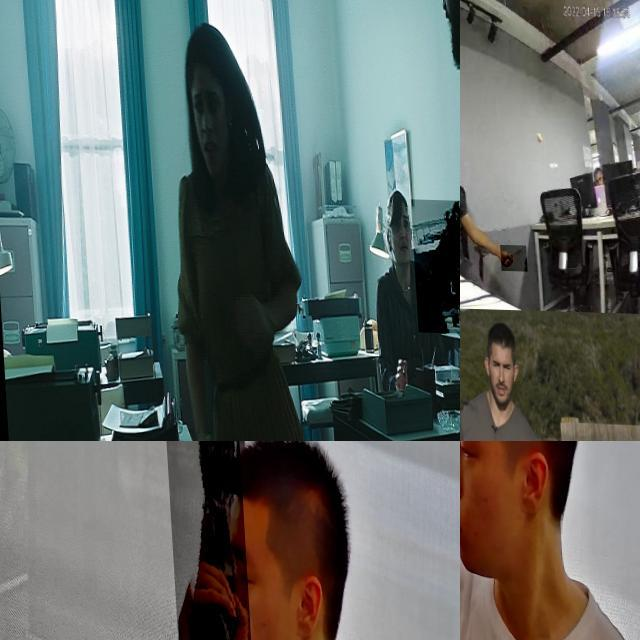-: (497, 244, 524, 270)
gun-knife-thesis - v11 Yolov5 augmented: (164, 441, 249, 640), (407, 196, 460, 331), (460, 441, 515, 561)
